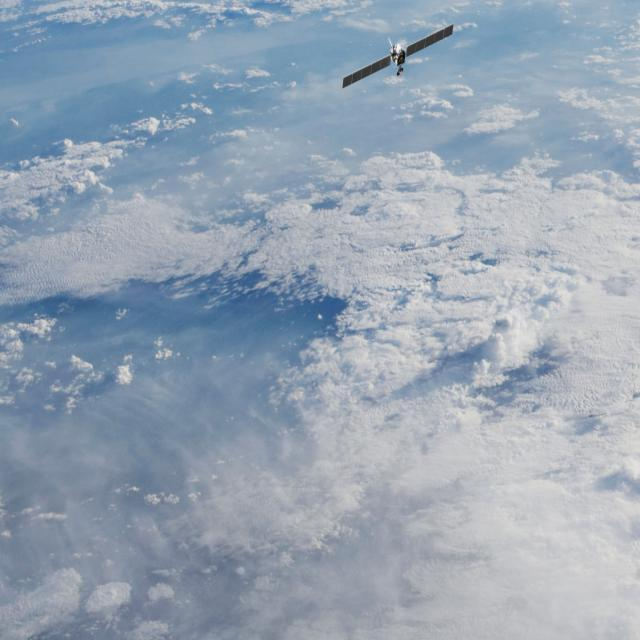satellite: (334, 12, 466, 99)
